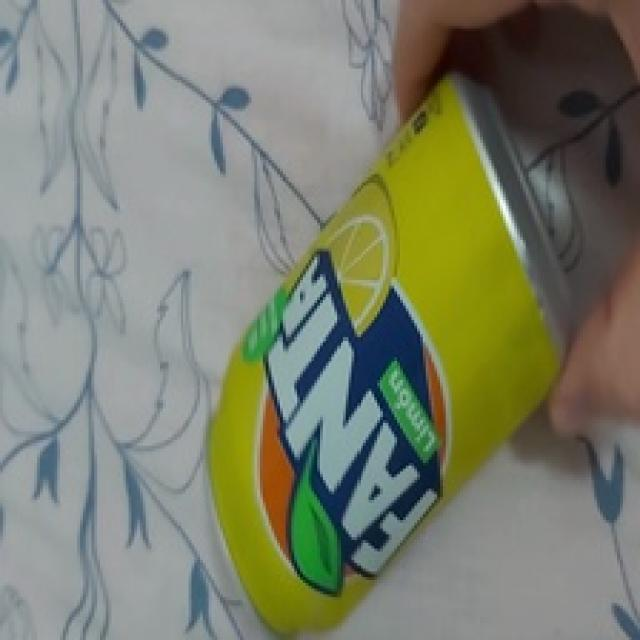recyclable: (205, 73, 581, 640)
